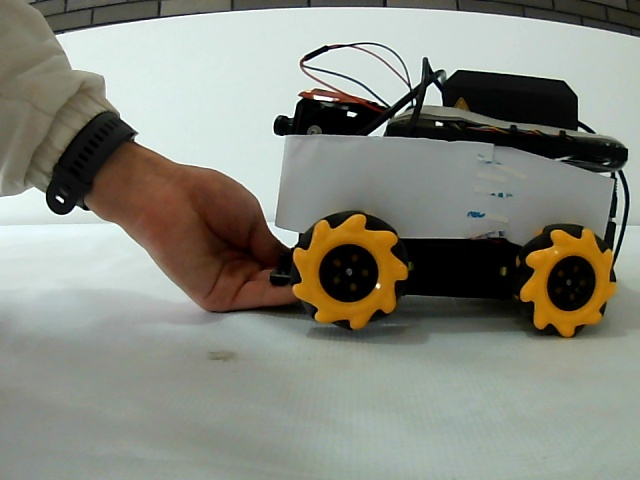car: (268, 60, 629, 340)
paper: (286, 138, 605, 224)
